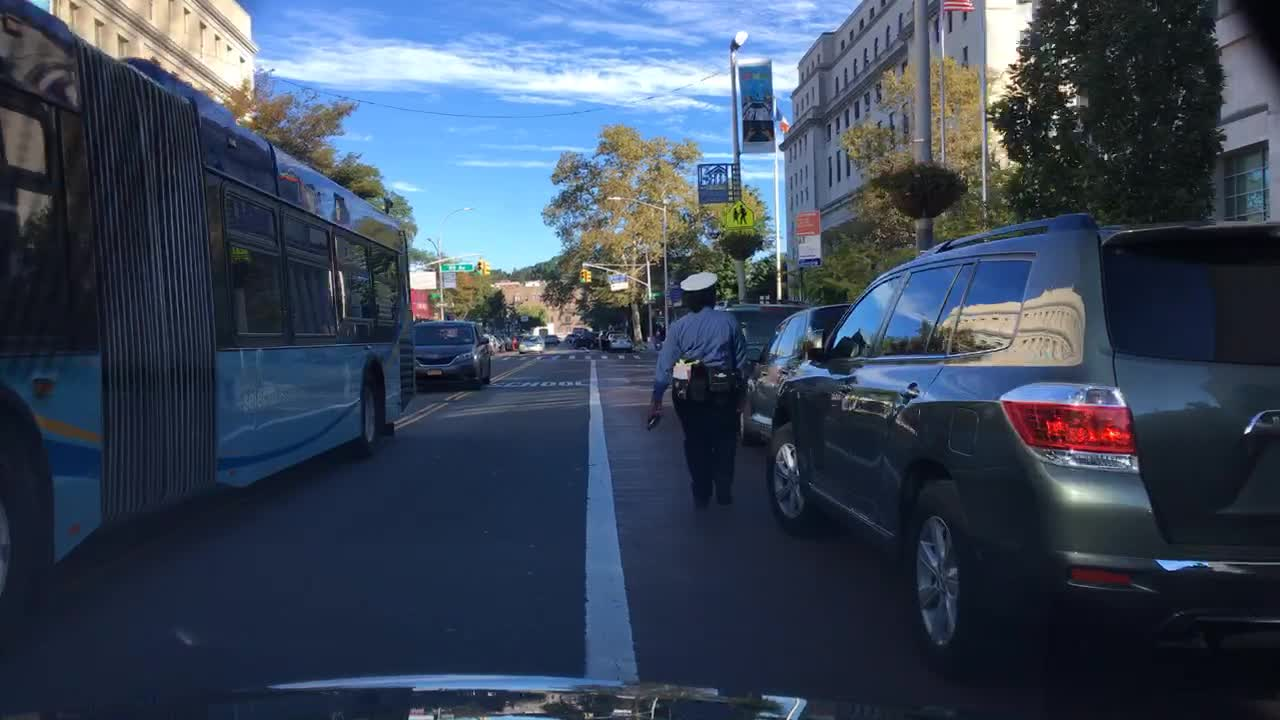bus: (0, 0, 413, 612)
car: (758, 213, 1277, 680), (733, 301, 852, 443), (411, 317, 494, 386), (720, 301, 795, 361), (570, 332, 598, 350), (517, 334, 543, 353), (607, 334, 635, 350), (482, 332, 500, 353), (499, 332, 517, 349), (541, 332, 561, 346), (561, 331, 570, 344), (603, 329, 622, 335)
person: (646, 263, 747, 506)
traffic light: (575, 266, 587, 285), (472, 257, 482, 274), (583, 268, 593, 283), (482, 262, 491, 275)
traffic sign: (723, 198, 754, 229), (793, 235, 821, 266), (796, 211, 821, 238), (603, 272, 629, 290), (439, 261, 469, 272)
